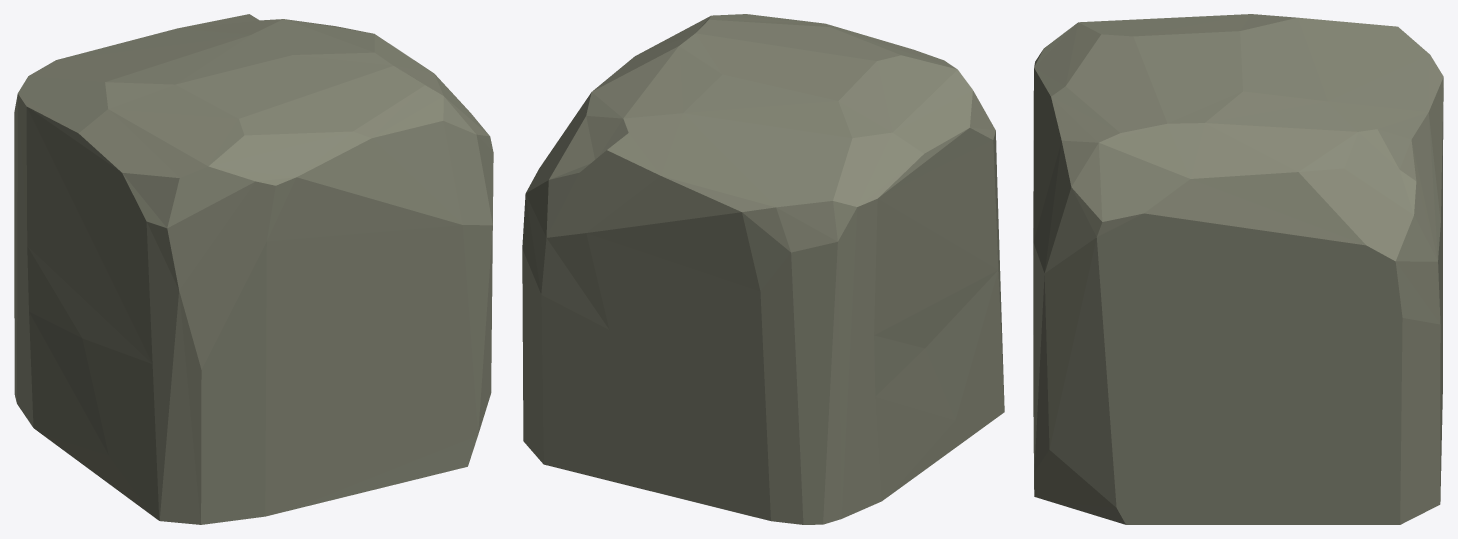
The model's file is Cliff_Desert_03.FBX.
The picture shows the model from 3 angles, left to right: view 1: azimuth 30°, elevation 25°; view 2: azimuth 150°, elevation 25°; view 3: azimuth 270°, elevation 25°; orthographic projection. The views are drawn at different scales.
Visible parts, largest first — view 1: Cliff_Desert_03; view 2: Cliff_Desert_03; view 3: Cliff_Desert_03.
Boxes of the visible parts, x1=… form: Cliff_Desert_03: x1=14, y1=14, x2=493, y2=524; Cliff_Desert_03: x1=522, y1=14, x2=1004, y2=524; Cliff_Desert_03: x1=1033, y1=14, x2=1443, y2=524.
Size of the model in its own units: 32.79 by 32.55 by 32.82.
1 material, 1 textured.
